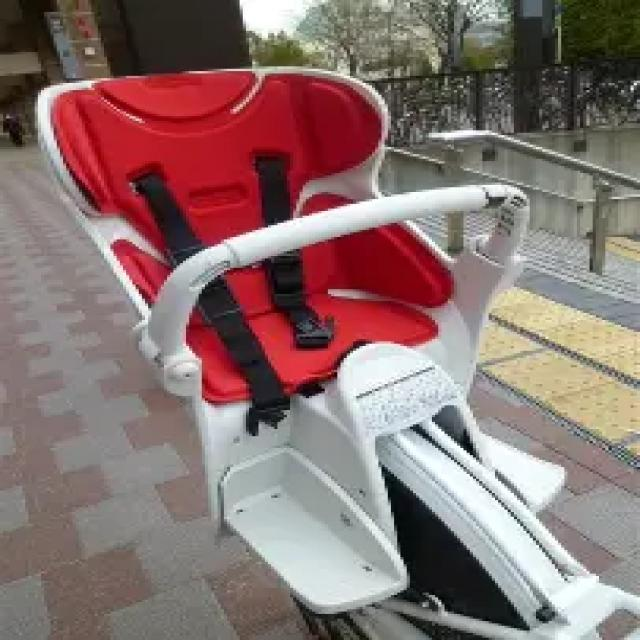childseat: (26, 70, 606, 616)
